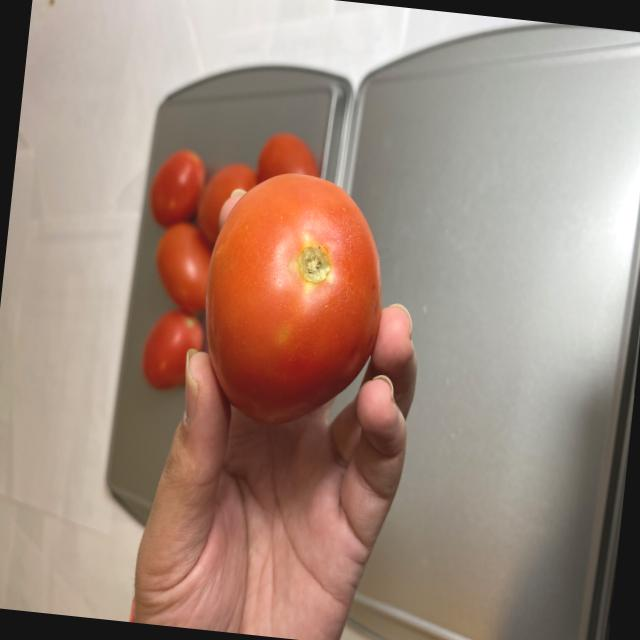tomato: (193, 156, 392, 438)
